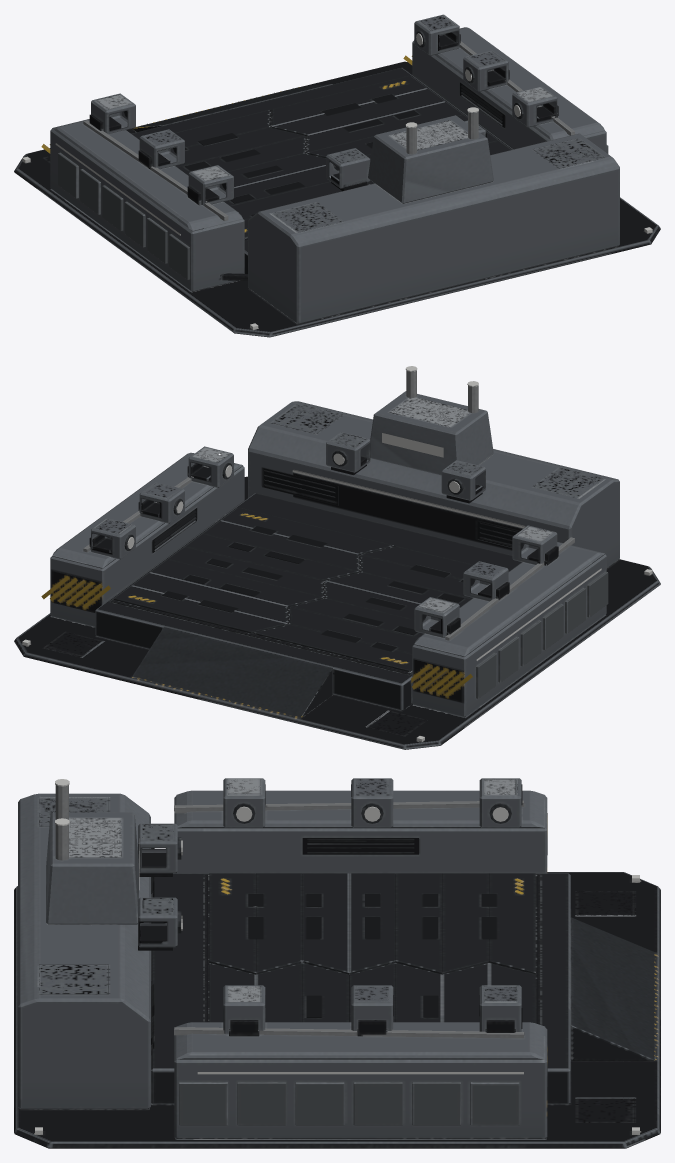
The model's file is chs_gantry.fbx.
3 views of the same model, one above another, from view 1: azimuth 30°, elevation 25°; view 2: azimuth 150°, elevation 25°; view 3: azimuth 270°, elevation 25° (orthographic). The views are drawn at different scales.
Parts seen in each view (by area): view 1: base_bar, base_glow_running_bar; view 2: base_bar, base_glow_power_bar, base_glow_running_bar; view 3: base_bar, base_glow_running_bar, base_glow_power_bar.
Boxes of the visible parts, left/top/right/bottom form: base_bar: left=14, top=14, right=660, bottom=337; base_glow_running_bar: left=22, top=143, right=652, bottom=329; base_bar: left=14, top=370, right=660, bottom=749; base_glow_power_bar: left=127, top=366, right=478, bottom=548; base_glow_running_bar: left=22, top=470, right=652, bottom=742; base_bar: left=14, top=778, right=660, bottom=1148; base_glow_running_bar: left=35, top=875, right=639, bottom=1134; base_glow_power_bar: left=55, top=779, right=508, bottom=930.
Size of the model in its own units: 5604 by 2191 by 5548.
2 materials, 2 textured.
